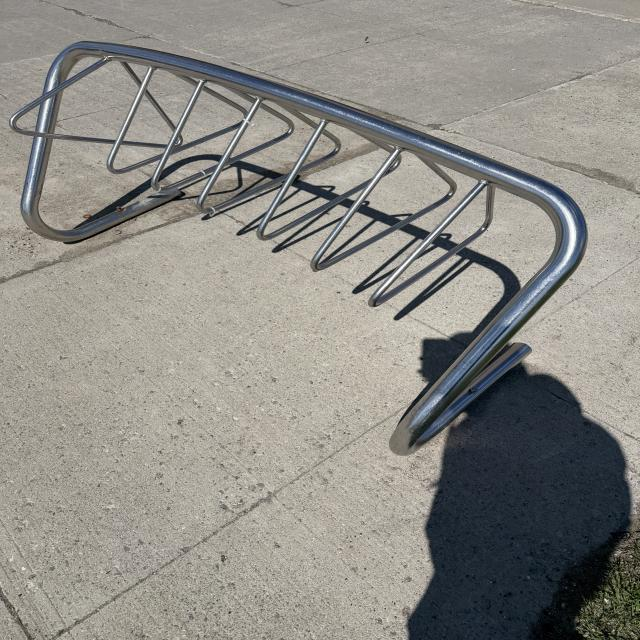Bicycle Rack: (20, 41, 588, 457)
